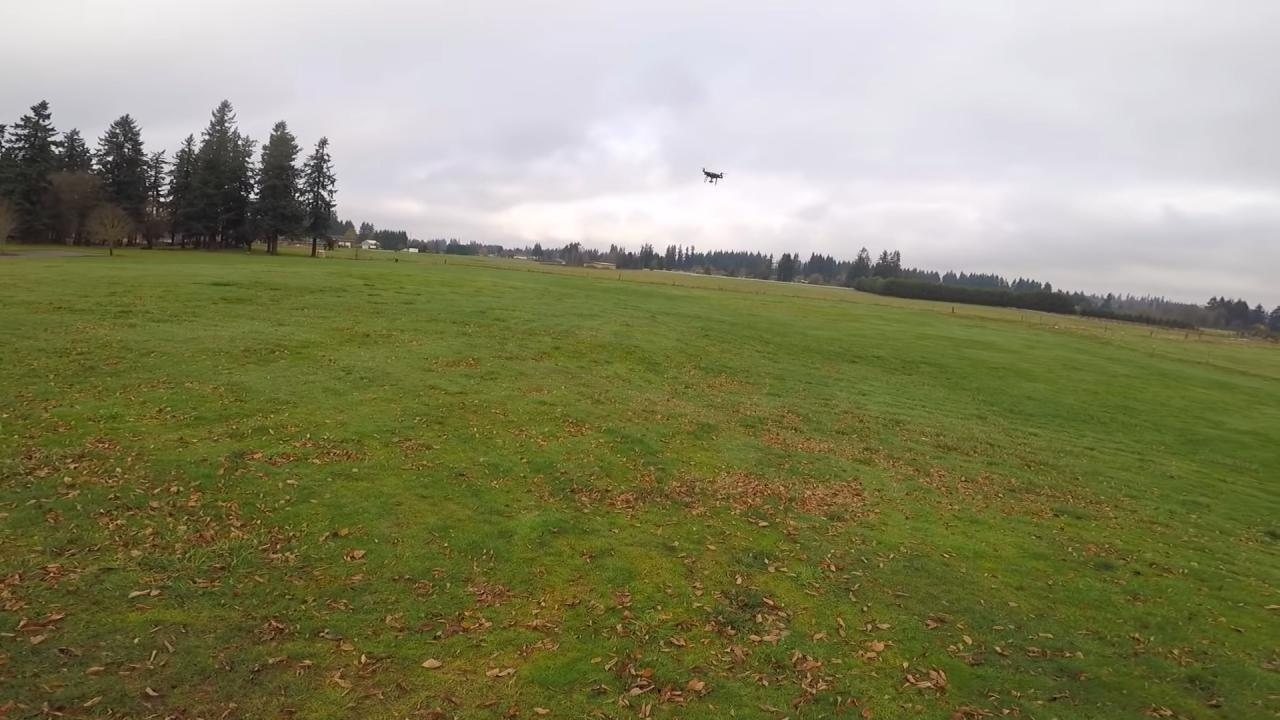Drone: (692, 161, 735, 193)
